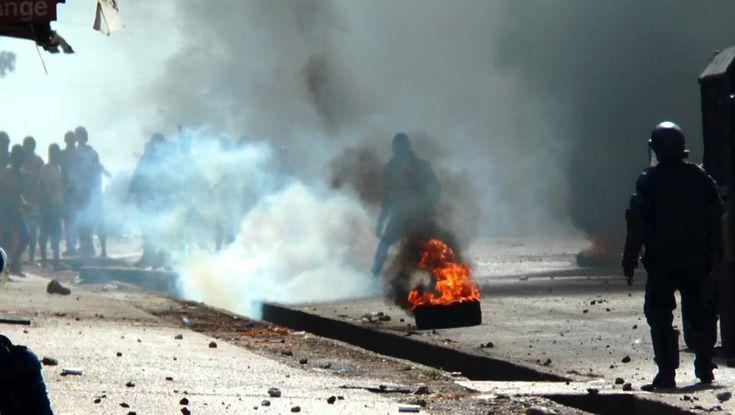fire: (410, 241, 481, 306)
smoke: (73, 0, 378, 311), (377, 0, 634, 230)
